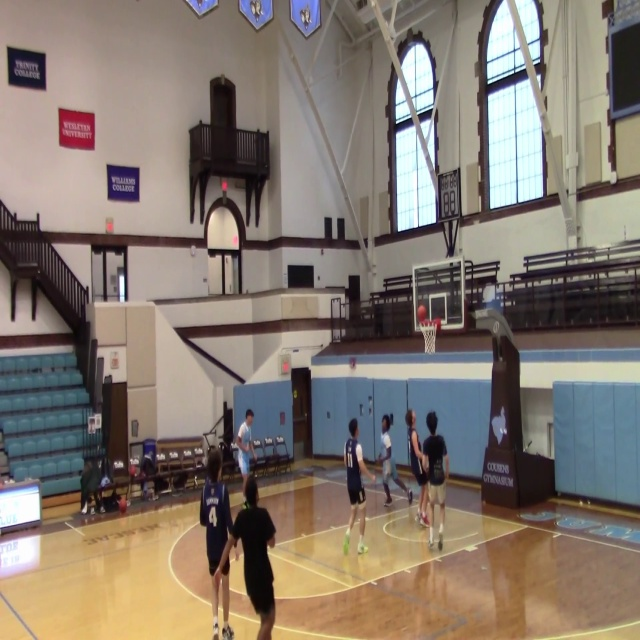Basketball: (417, 305, 427, 322), (118, 499, 127, 513)
